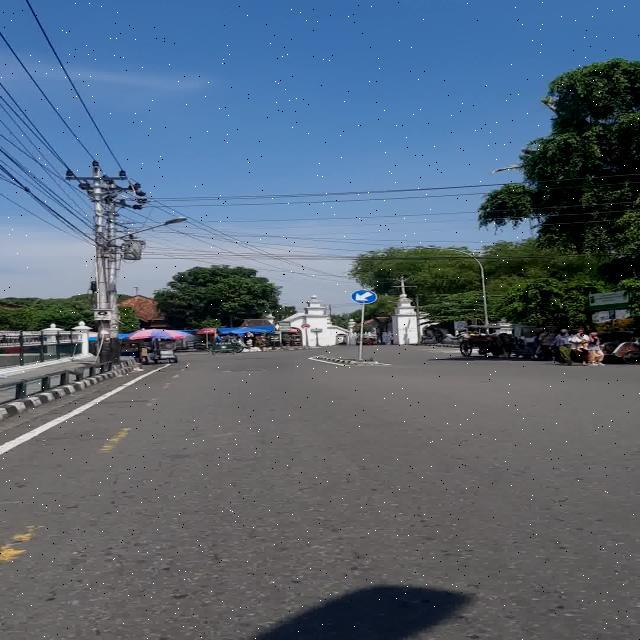Lajur Kiri: (350, 290, 378, 304)
